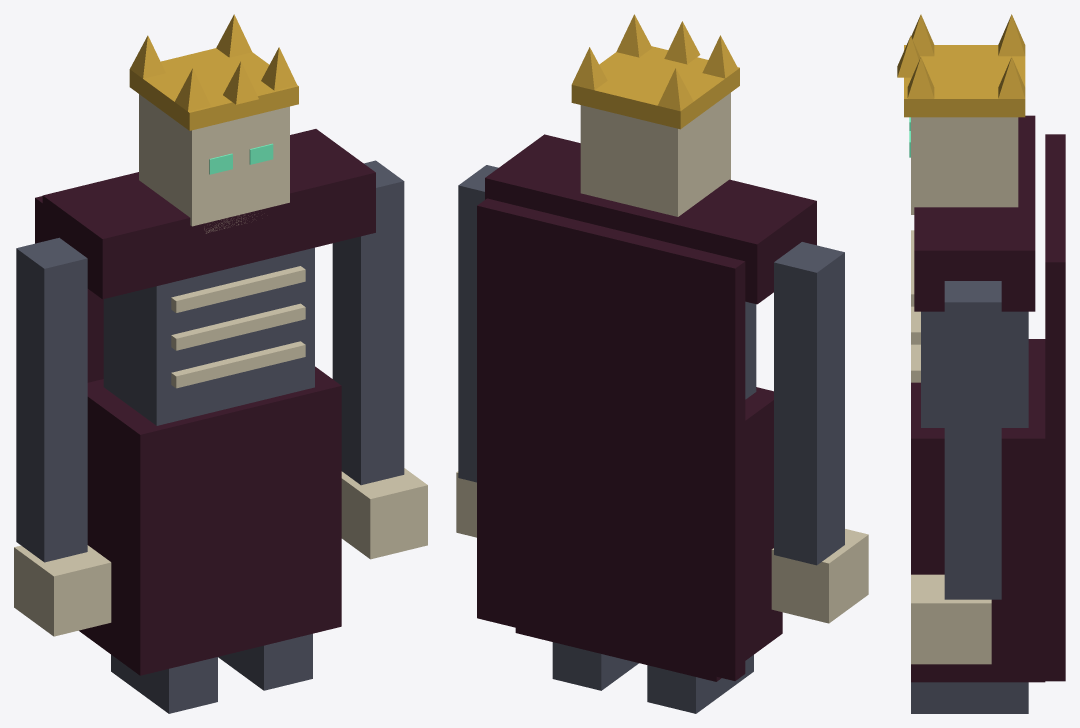
The model's file is hollow_king_placeholder.glb.
3 renders of one model, left to right at view 1: azimuth 30°, elevation 25°; view 2: azimuth 150°, elevation 25°; view 3: azimuth 270°, elevation 25°, orthographic.
Parts seen in each view (by area): view 1: hollow_king_placeholder; view 2: hollow_king_placeholder; view 3: hollow_king_placeholder.
Boxes of the visible parts, x1,y1,x2,y2 form: hollow_king_placeholder: (14,14,427,713); hollow_king_placeholder: (456,14,868,713); hollow_king_placeholder: (897,14,1065,713).
Bounding box in the file's own units: 2.6 × 4.22 × 1.
1 material, 1 textured.
